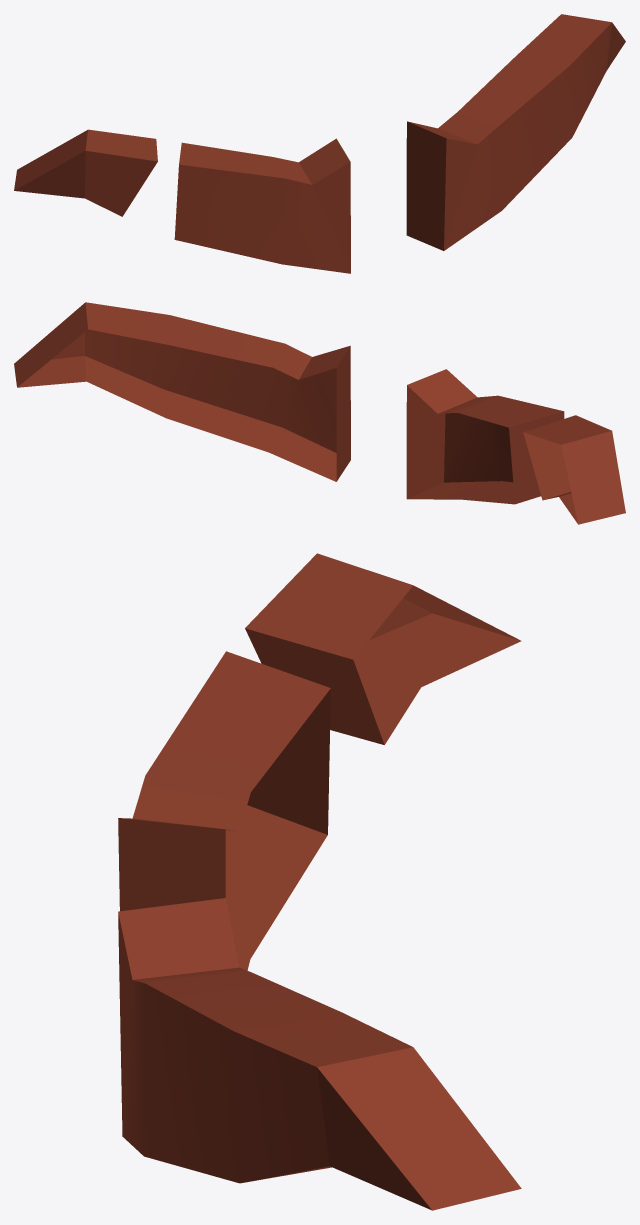
Rendered from Brow_Brown_9.fbx.
3 renders of one model, top to bottom at view 1: azimuth 30°, elevation 25°; view 2: azimuth 150°, elevation 25°; view 3: azimuth 270°, elevation 25°, orthographic. The views are drawn at different scales.
Visible parts, largest first — view 1: Brow_Brown_9; view 2: Brow_Brown_9; view 3: Brow_Brown_9.
Part boxes in pixels (x1,y1,x2,y2): Brow_Brown_9: (14,14,625,273); Brow_Brown_9: (14,302,625,524); Brow_Brown_9: (118,553,521,1210).
Bounding box in the file's own units: 41.99 × 9.24 × 11.99.
